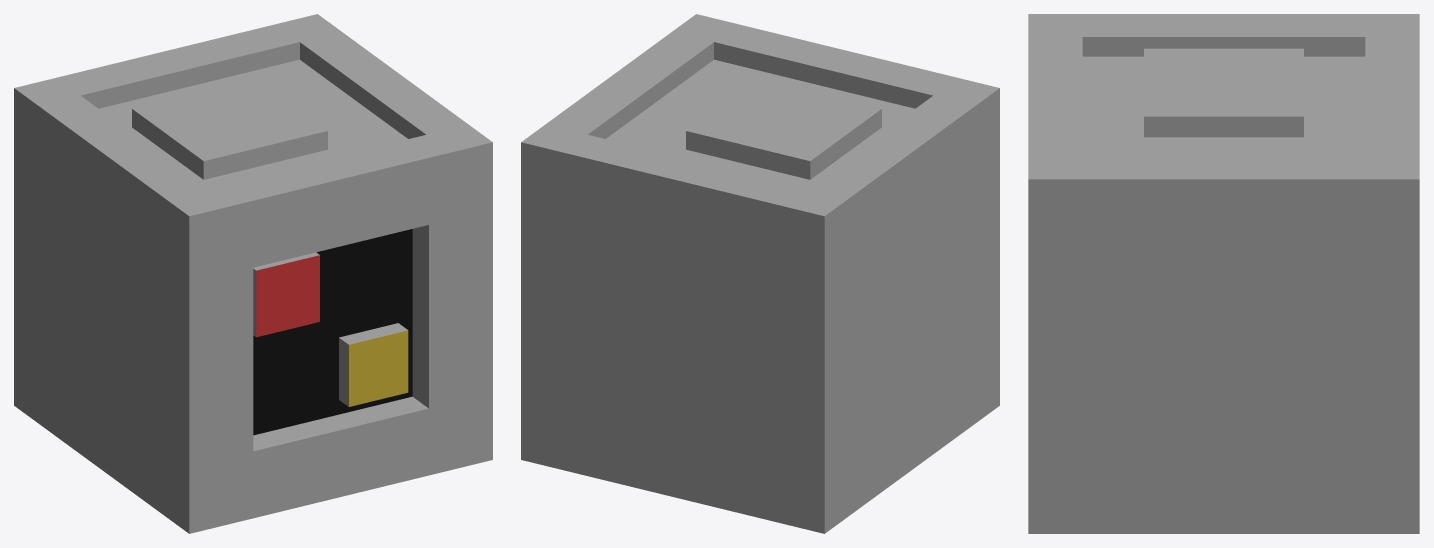
The model's file is GateBox.fbx.
3 views of the same model, side by side, from view 1: azimuth 30°, elevation 25°; view 2: azimuth 150°, elevation 25°; view 3: azimuth 270°, elevation 25° (orthographic). The views are drawn at different scales.
Parts seen in each view (by area): view 1: Cube; view 2: Cube; view 3: Cube.
Boxes of the visible parts, bbox=[...] form: Cube: bbox=[14, 14, 492, 533]; Cube: bbox=[521, 14, 999, 533]; Cube: bbox=[1028, 14, 1419, 533].
Bounding box in the file's own units: 114 × 114 × 114.
